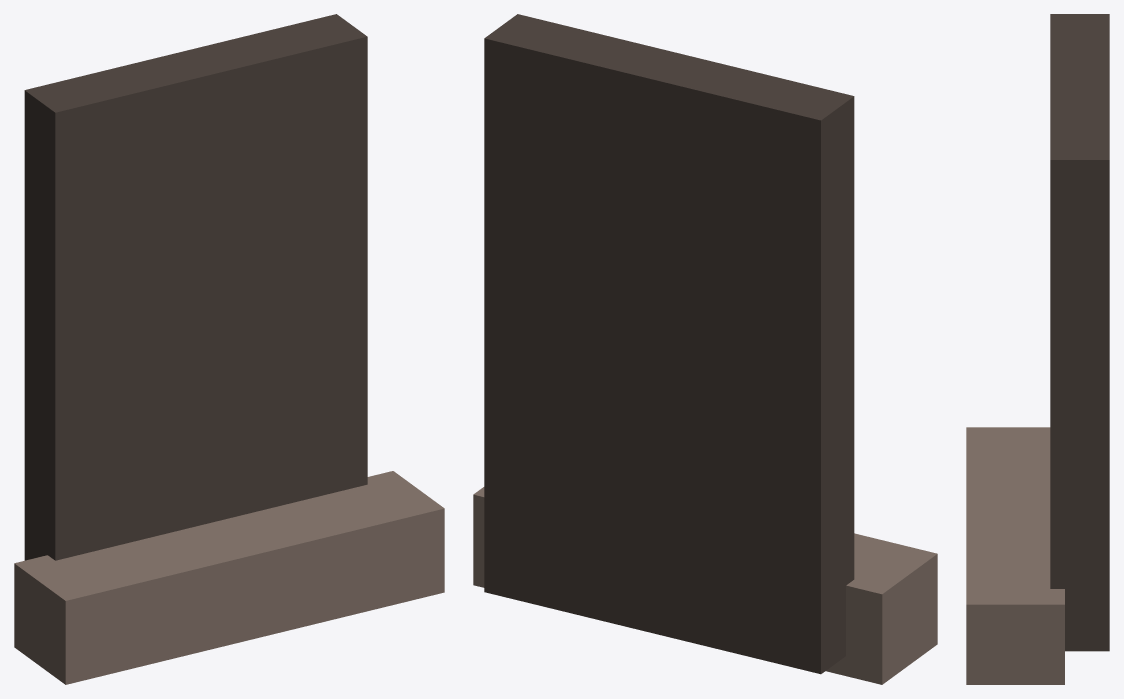
Rendered from alcove.glb.
The picture shows the model from 3 angles, left to right: view 1: azimuth 30°, elevation 25°; view 2: azimuth 150°, elevation 25°; view 3: azimuth 270°, elevation 25°; orthographic projection. The views are drawn at different scales.
Visible parts, largest first — view 1: alcove; view 2: alcove; view 3: alcove.
Boxes of the visible parts, x1,y1,x2,y2 form: alcove: (14,14,444,684); alcove: (473,14,937,684); alcove: (966,14,1109,684).
Size of the model in its own units: 0.85 by 1.14 by 0.29.
